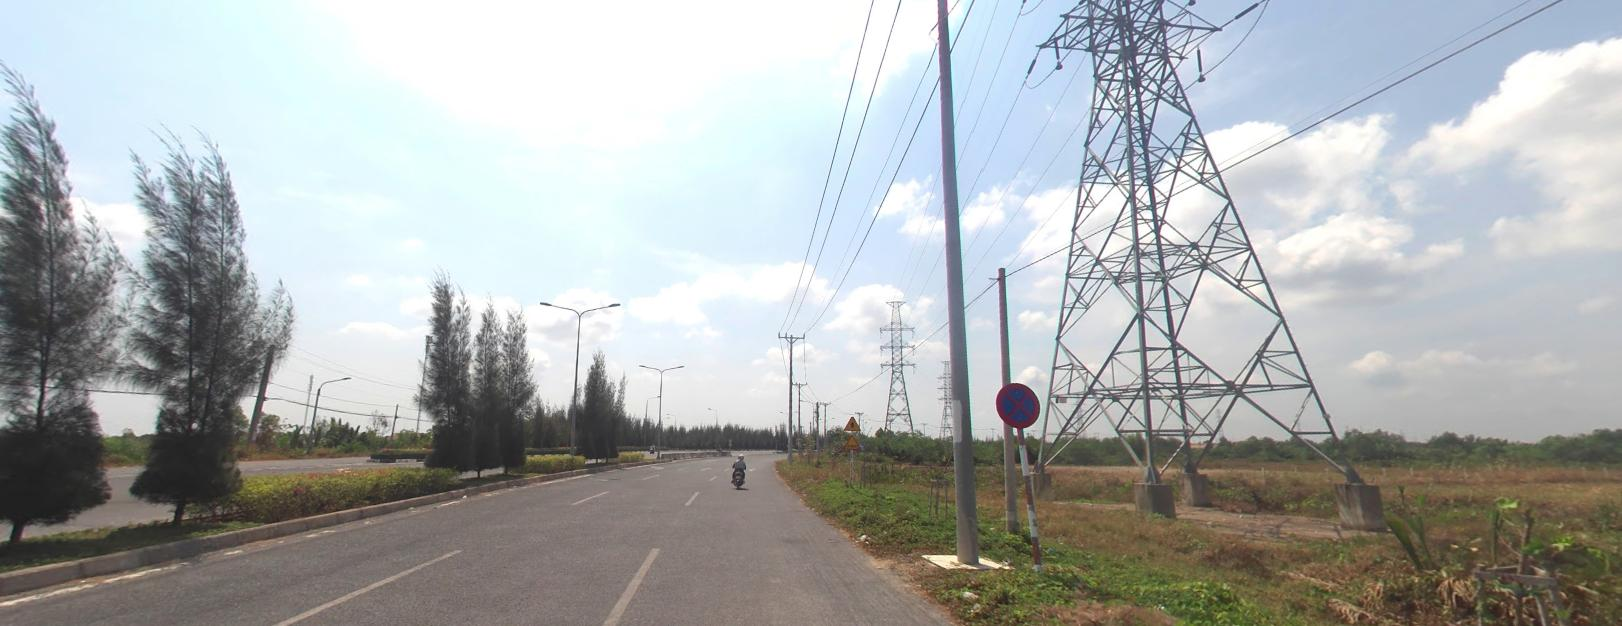Cam dung va do: (995, 381, 1039, 426)
Nguy hiem: (843, 414, 860, 429), (844, 433, 860, 448)
